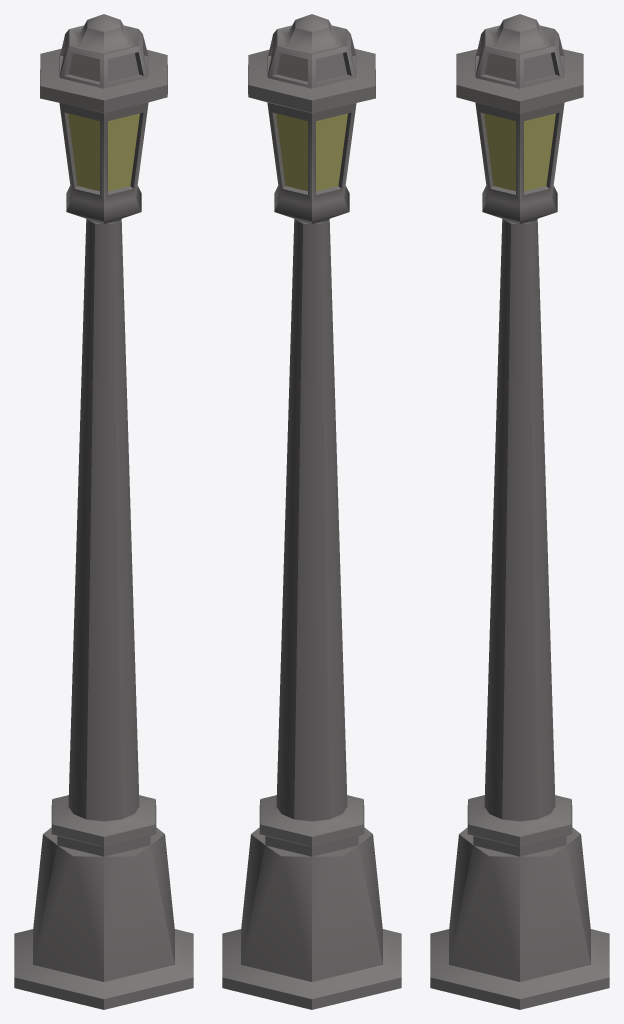
The model's file is poste.fbx.
3 renders of one model, left to right at view 1: azimuth 30°, elevation 25°; view 2: azimuth 150°, elevation 25°; view 3: azimuth 270°, elevation 25°, orthographic.
Parts seen in each view (by area): view 1: poste1; view 2: poste1; view 3: poste1.
Boxes of the visible parts, x1=… form: poste1: x1=14, y1=14, x2=193, y2=1009; poste1: x1=222, y1=14, x2=401, y2=1009; poste1: x1=430, y1=14, x2=609, y2=1009.
Size of the model in its own units: 96.42 by 490 by 83.51.
